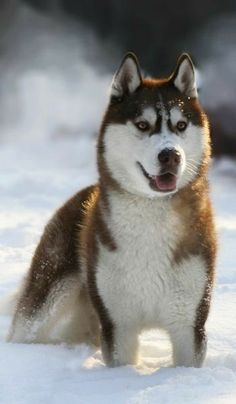husky: (24, 50, 221, 356)
